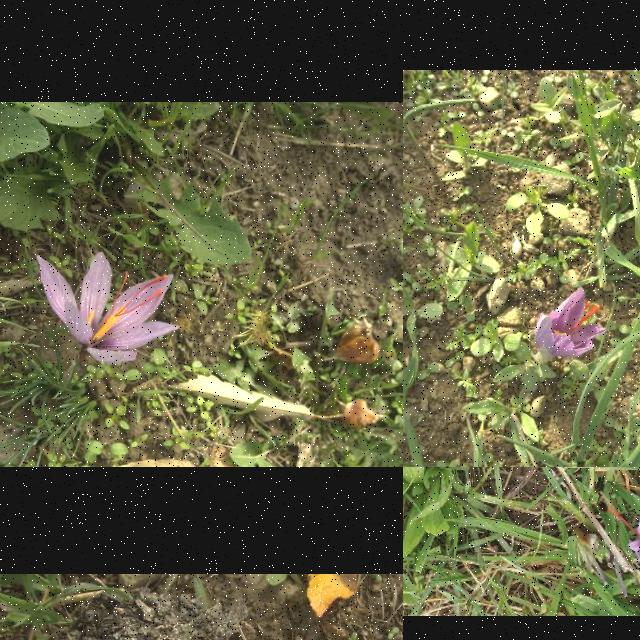flower: (37, 252, 179, 366), (534, 288, 606, 357), (607, 492, 640, 604)
